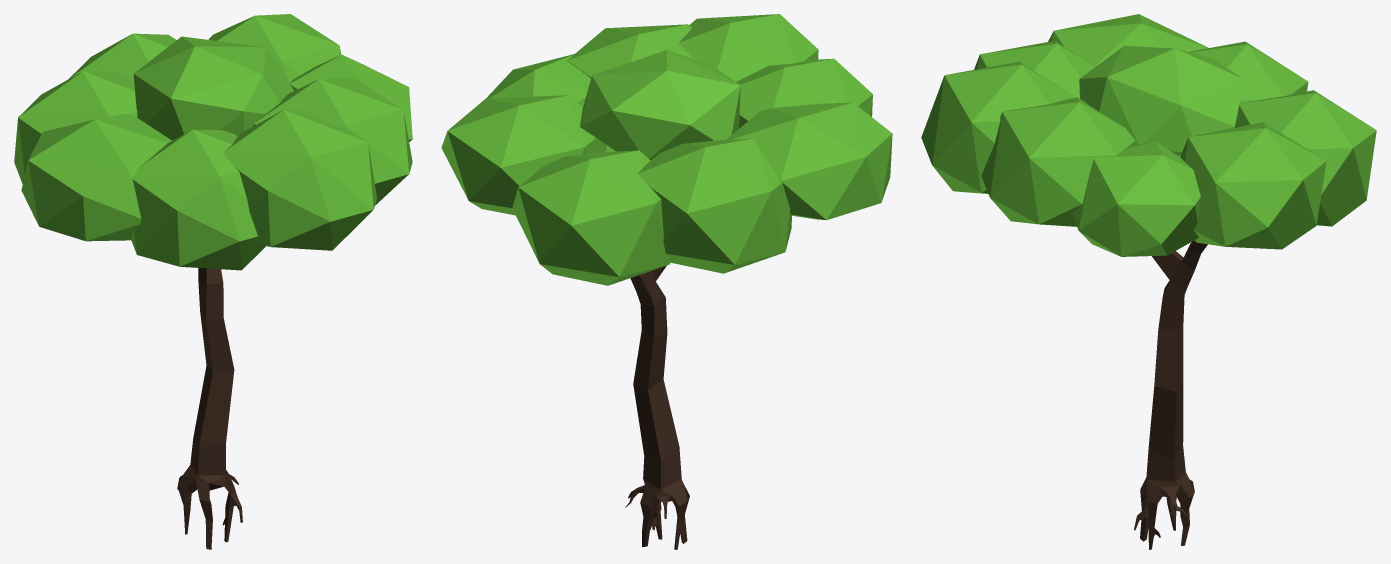
File: Tree_01.fbx
3 renders of one model, left to right at view 1: azimuth 30°, elevation 25°; view 2: azimuth 150°, elevation 25°; view 3: azimuth 270°, elevation 25°, orthographic.
Parts seen in each view (by area): view 1: Tree_01; view 2: Tree_01; view 3: Tree_01.
Boxes of the visible parts, x1,y1,x2,y2 form: Tree_01: [14, 14, 412, 549]; Tree_01: [441, 14, 892, 549]; Tree_01: [921, 14, 1376, 549].
Bounding box in the file's own units: 8.99 × 11.11 × 9.3.
